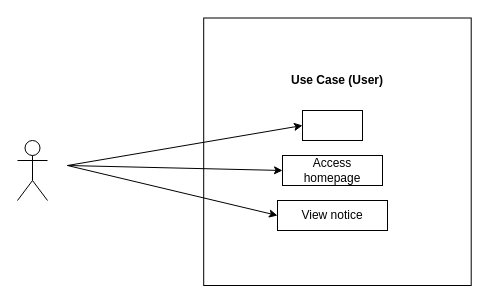
The diagram is 489 pixels wide and 303 high, and some of its shapes have lost their labels. Here are the shapes that lost their labels. From the top down, the box of each, then its label:
(302, 110, 362, 140): Sign up
(16, 140, 48, 200): User
